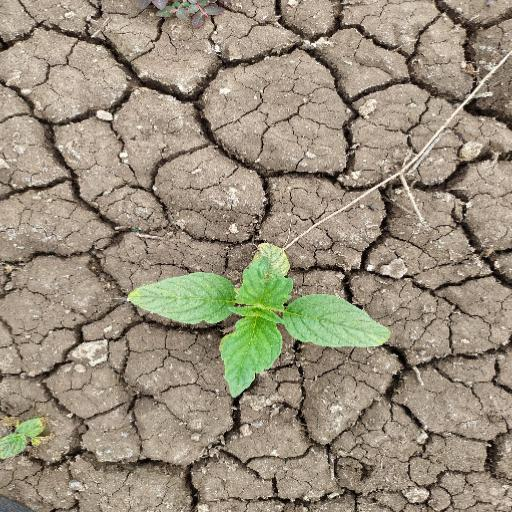crop: (127, 250, 390, 393)
